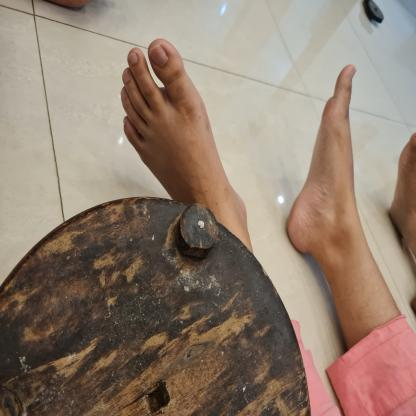leg: (282, 56, 402, 323), (114, 34, 252, 253)
